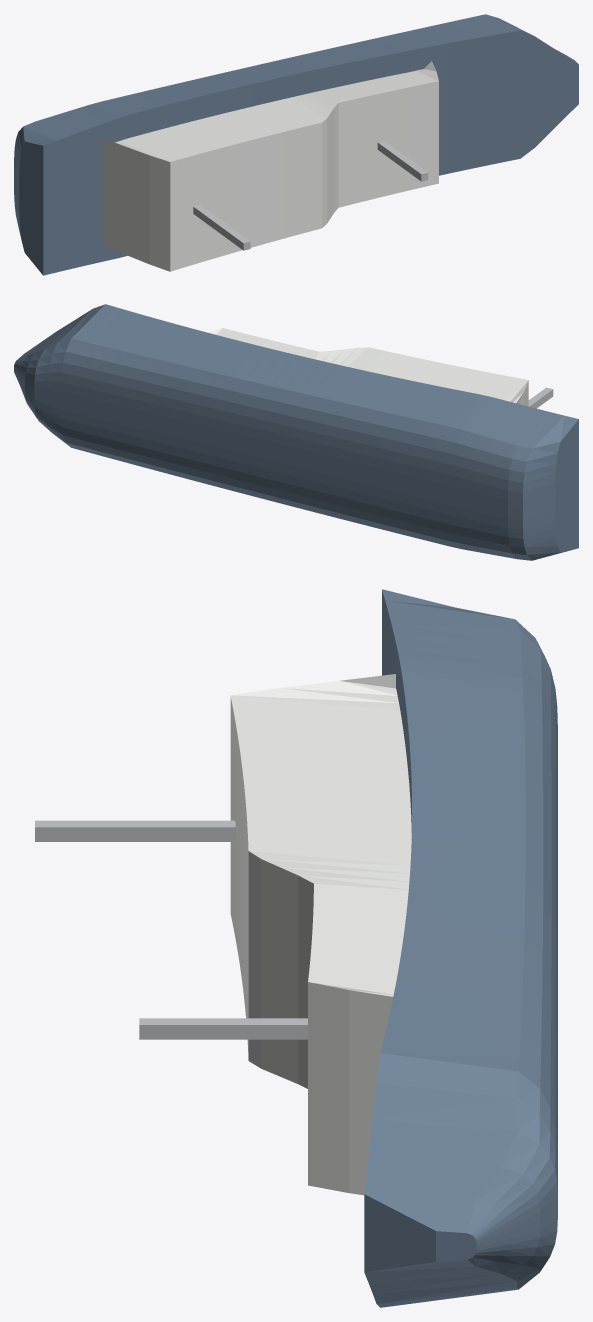
The model's file is loft-power-large-sheered.glb.
3 views of the same model, one above another, from view 1: azimuth 30°, elevation 25°; view 2: azimuth 150°, elevation 25°; view 3: azimuth 270°, elevation 25° (orthographic). The views are drawn at different scales.
Parts seen in each view (by area): view 1: loft-power-large-sheered; view 2: loft-power-large-sheered; view 3: loft-power-large-sheered.
Part boxes in pixels (x1,y1,x2,y2): loft-power-large-sheered: (14, 14, 578, 275); loft-power-large-sheered: (14, 304, 578, 560); loft-power-large-sheered: (35, 589, 557, 1307).
Size of the model in its own units: 1.87 by 0.4612 by 0.782.
